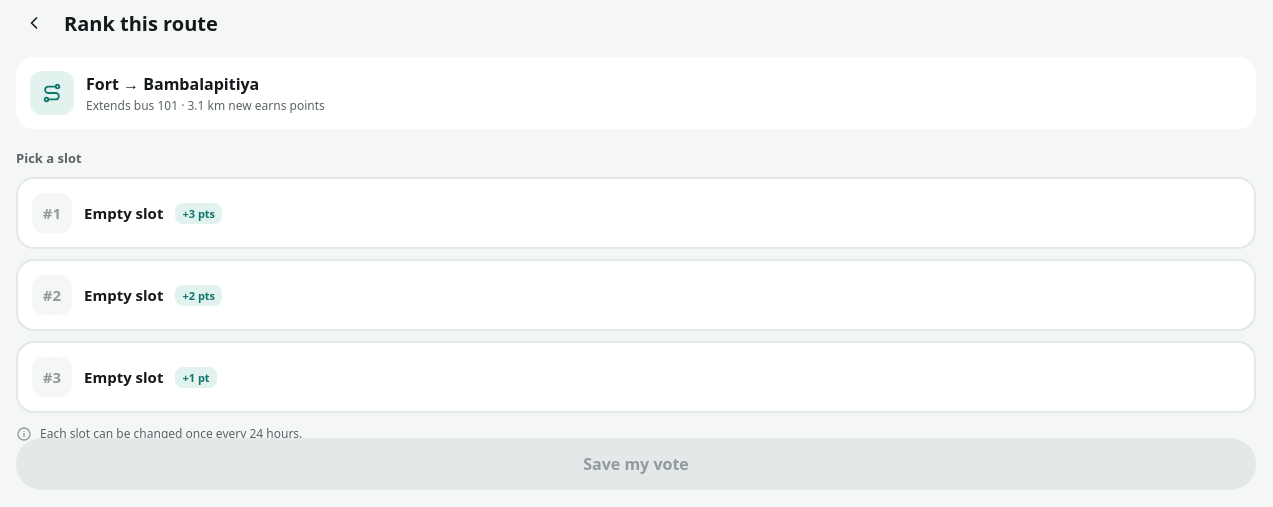
Test: saving after the Bus check › saves the extension with the bot check and the device signal, never geometry
The width and height of the screenshot is (1273, 507).
Check: the text "Extends bus 101 · 3.1 km new earns points" is shown, box top-left (86, 96), bottom-right (325, 114)
Click the radio button labelled "#1 Empty slot +3 pts".
click(52, 213)  # box top-left (16, 177), bottom-right (1256, 249)
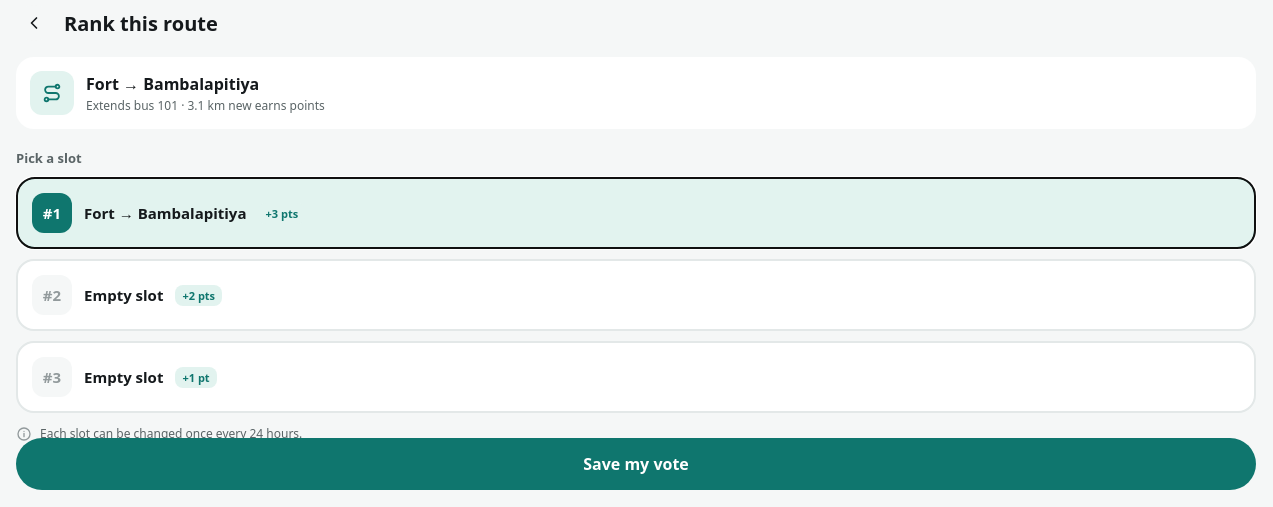
Click the button "Save my vote".
click(636, 464)  # box top-left (16, 438), bottom-right (1256, 490)
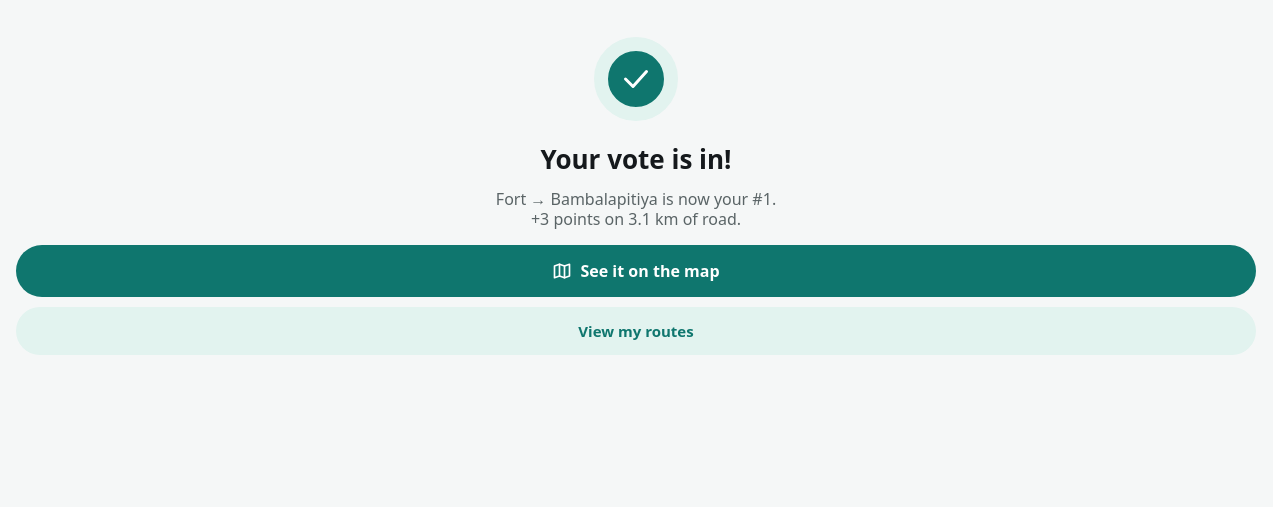
Check: the heading "Your vote is in!" is shown, box top-left (540, 141), bottom-right (732, 177)
